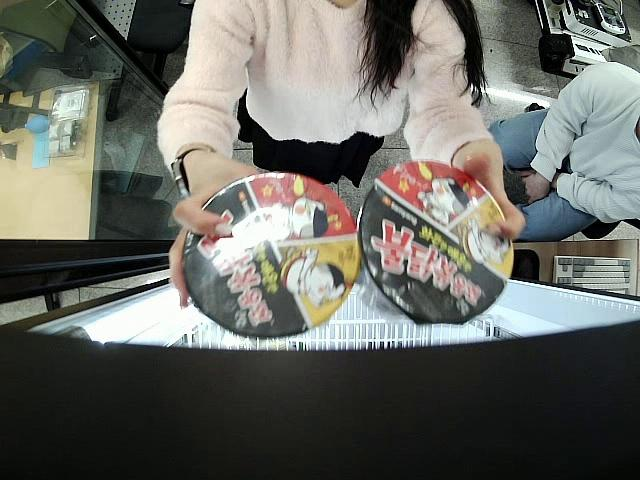00_hand: (168, 159, 265, 310), (451, 138, 527, 243)
07_buldak_L: (183, 172, 357, 338), (358, 163, 514, 323)
